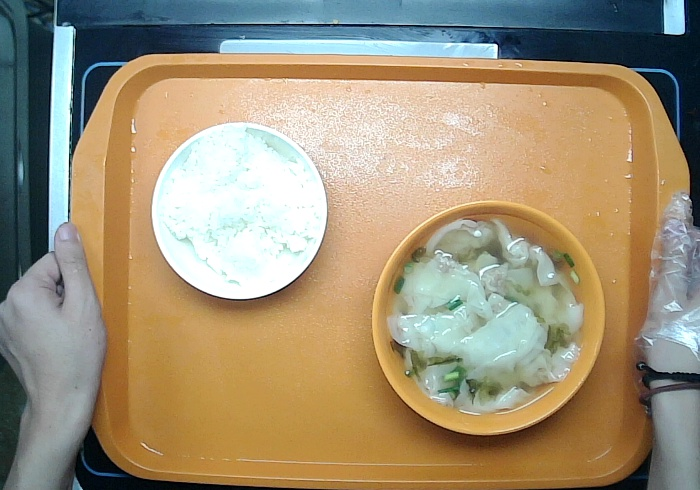NLDX-Fan_Wan: (149, 121, 329, 301)
NLDX-Hun_Tun_Wan: (369, 198, 606, 438)
